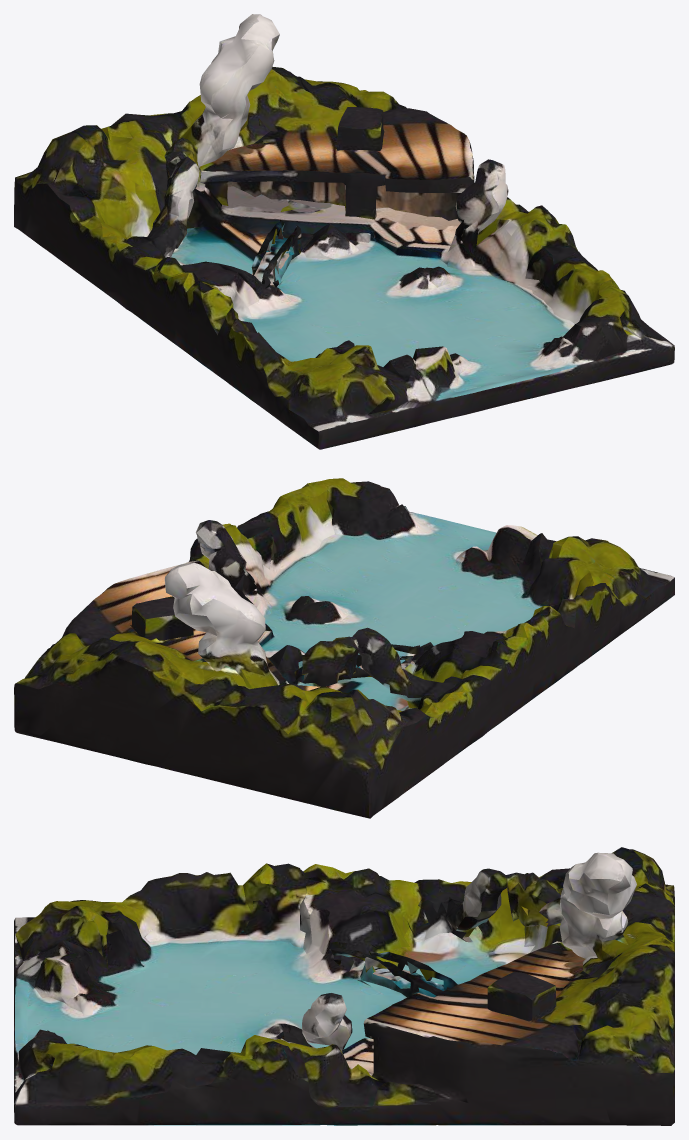
Rendered from blue-lagoon-iceland.glb.
3 views of the same model, one above another, from view 1: azimuth 30°, elevation 25°; view 2: azimuth 150°, elevation 25°; view 3: azimuth 270°, elevation 25° (orthographic). The views are drawn at different scales.
Visible parts, largest first — view 1: logan-textured.obj; view 2: logan-textured.obj; view 3: logan-textured.obj.
Part boxes in pixels (x1=…): logan-textured.obj: x1=14, y1=14, x2=674, y2=449; logan-textured.obj: x1=14, y1=478, x2=674, y2=818; logan-textured.obj: x1=14, y1=847, x2=674, y2=1125.
Bounding box in the file's own units: 0.6753 × 0.3269 × 1.
Materials: 1 (1 with a texture image).
